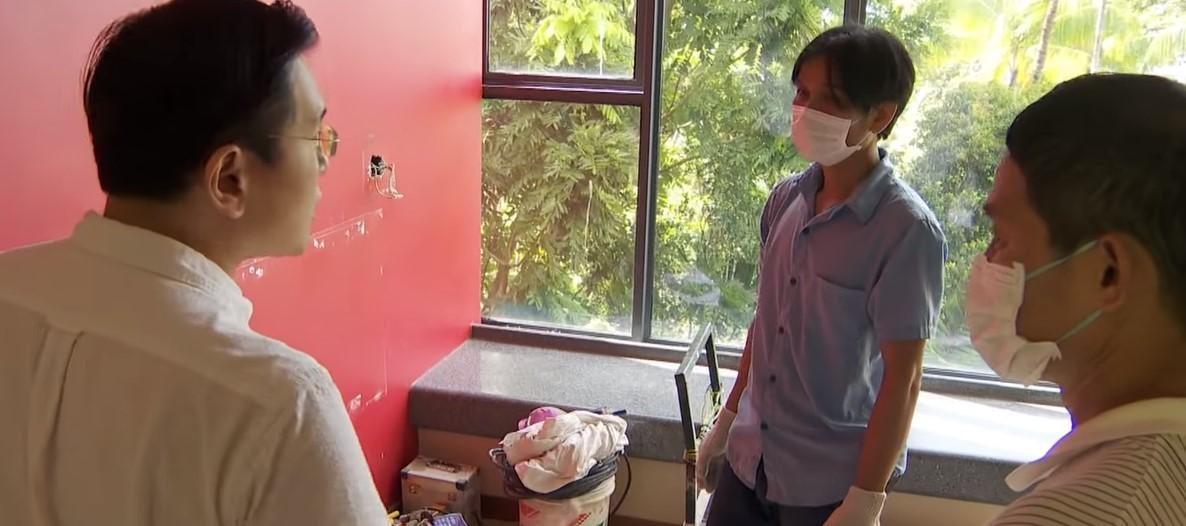face_no_mask: (111, 10, 338, 275)
face_with_mask: (963, 75, 1181, 389), (778, 22, 911, 169)
